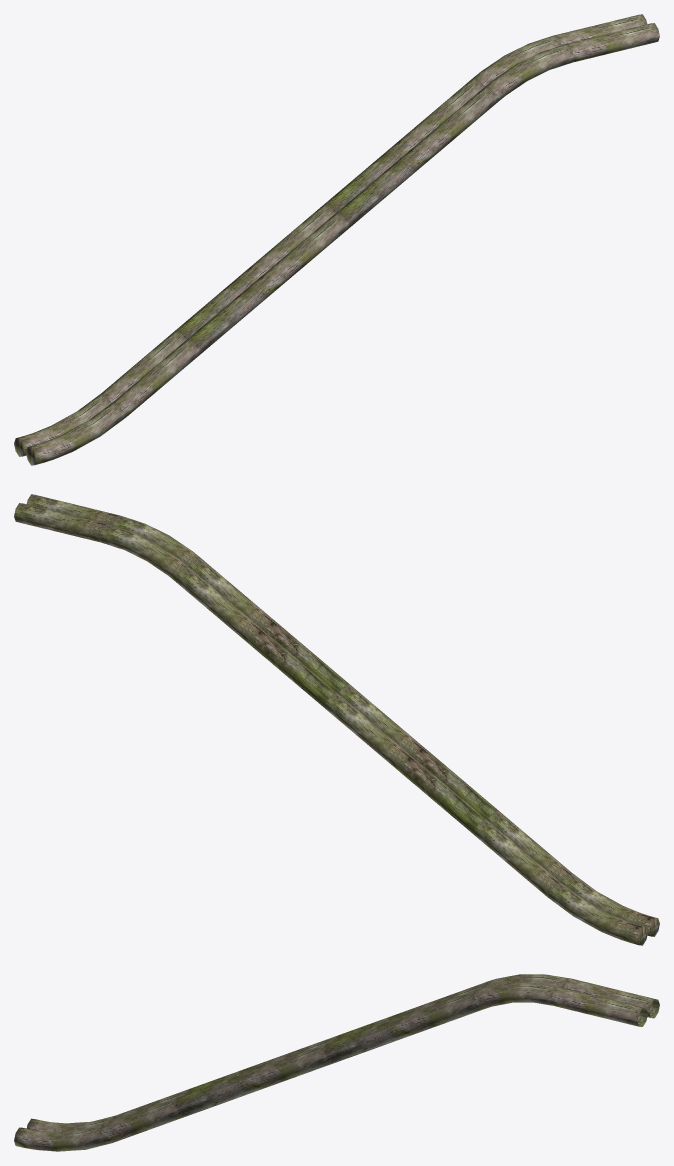
The model's file is PIPR-001.fbx.
The picture shows the model from 3 angles, top to bottom: view 1: azimuth 30°, elevation 25°; view 2: azimuth 150°, elevation 25°; view 3: azimuth 330°, elevation 25°; orthographic projection.
Visible parts, largest first — view 1: pipe_001; view 2: pipe_001; view 3: pipe_001.
Part boxes in pixels (bbox=[...]): pipe_001: bbox=[14, 14, 659, 465]; pipe_001: bbox=[14, 494, 659, 945]; pipe_001: bbox=[14, 974, 659, 1151].
Size of the model in its own units: 724 by 322 by 45.13.
